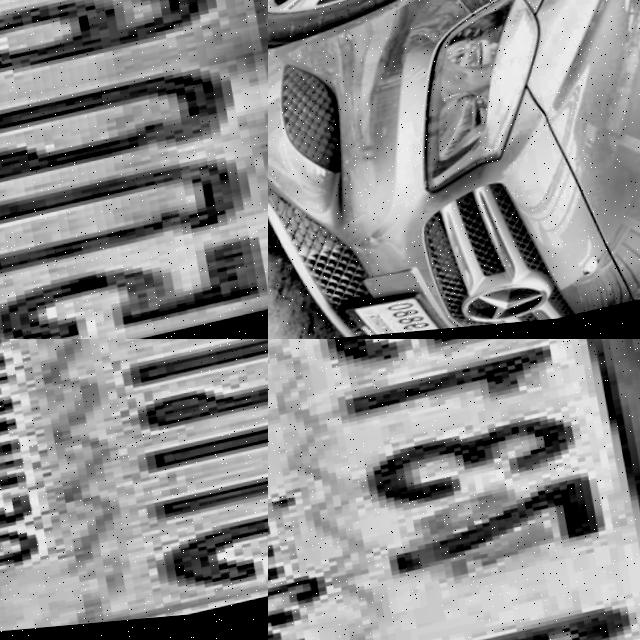license-plate: (268, 339, 640, 640), (0, 0, 268, 339), (0, 339, 268, 640), (337, 281, 456, 339)
